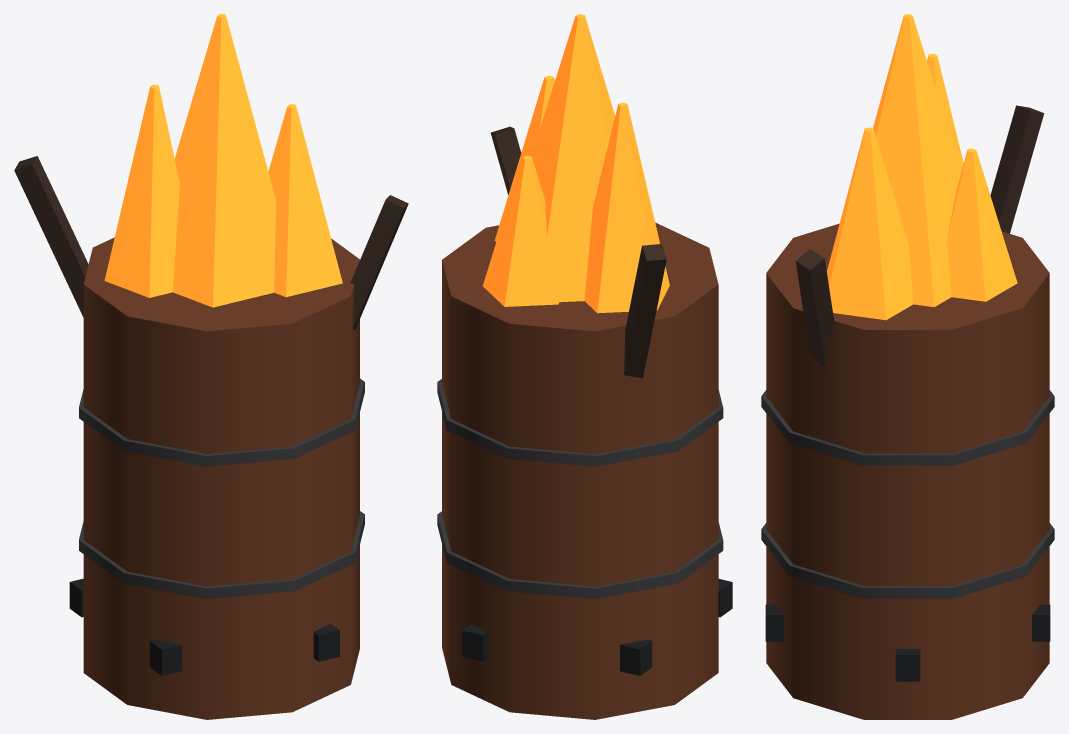
Rendered from burning_barrel.glb.
3 views of the same model, side by side, from view 1: azimuth 30°, elevation 25°; view 2: azimuth 150°, elevation 25°; view 3: azimuth 270°, elevation 25° (orthographic).
Parts seen in each view (by area): view 1: burning_barrel; view 2: burning_barrel; view 3: burning_barrel.
Boxes of the visible parts, left/top/right/bottom form: burning_barrel: left=14, top=14, right=408, bottom=719; burning_barrel: left=437, top=14, right=732, bottom=719; burning_barrel: left=761, top=14, right=1054, bottom=719.
Bounding box in the file's own units: 0.6764 × 1.46 × 0.6.
1 material, 1 textured.
